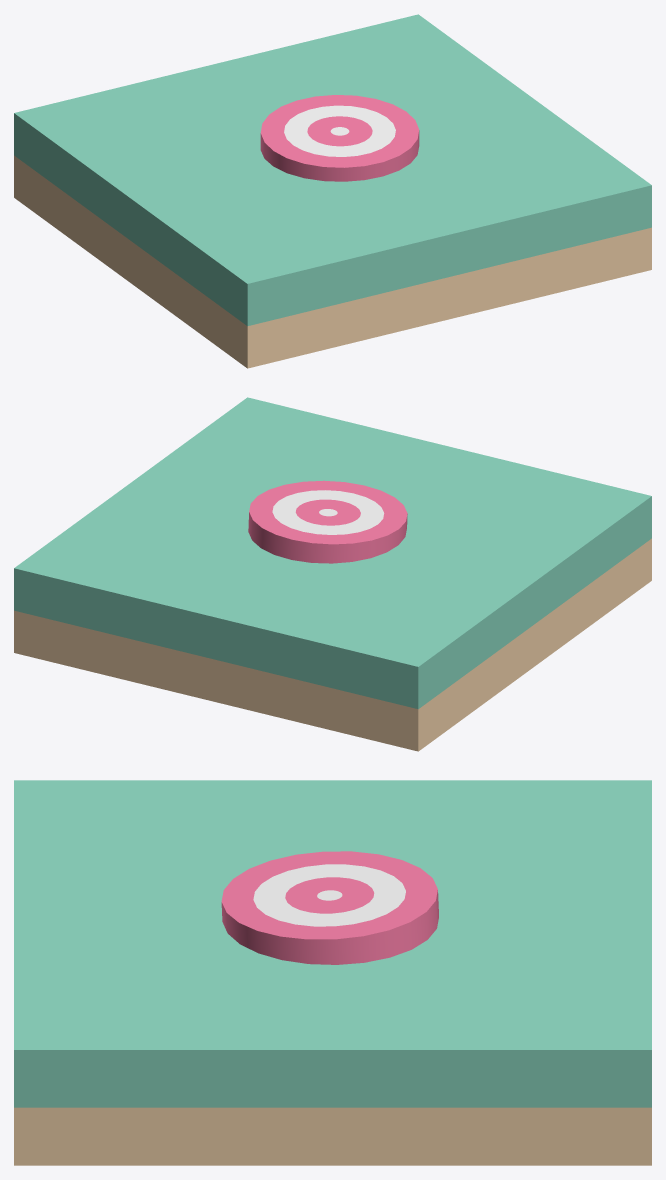
Rendered from target.glb.
3 views of the same model, one above another, from view 1: azimuth 30°, elevation 25°; view 2: azimuth 150°, elevation 25°; view 3: azimuth 270°, elevation 25° (orthographic). The views are drawn at different scales.
Visible parts, largest first — view 1: tile, targetA; view 2: tile, targetA; view 3: tile, targetA.
Boxes of the visible parts, box(x1,y1,x2,y2) form: tile: box(14, 14, 651, 368); targetA: box(260, 95, 419, 181); tile: box(14, 397, 651, 751); targetA: box(248, 480, 407, 563); tile: box(14, 780, 651, 1165); targetA: box(221, 851, 438, 964).
Bounding box in the file's own units: 1 × 0.248 × 1.
